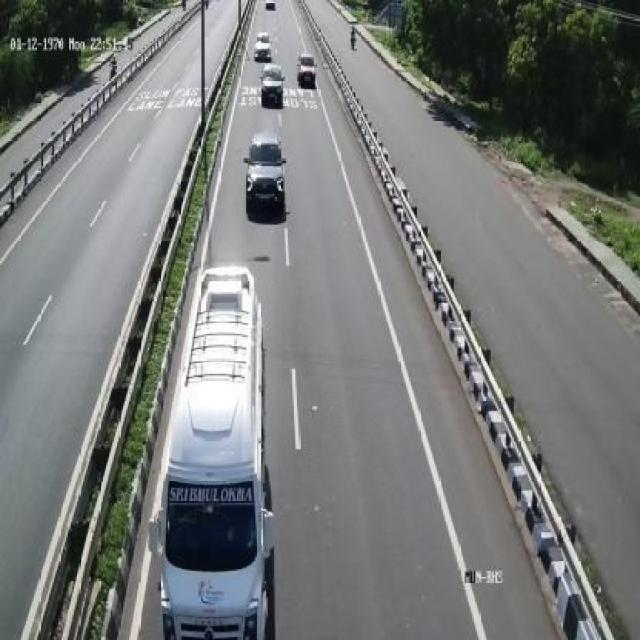car: (246, 123, 291, 226), (259, 60, 286, 109), (297, 48, 321, 90)
